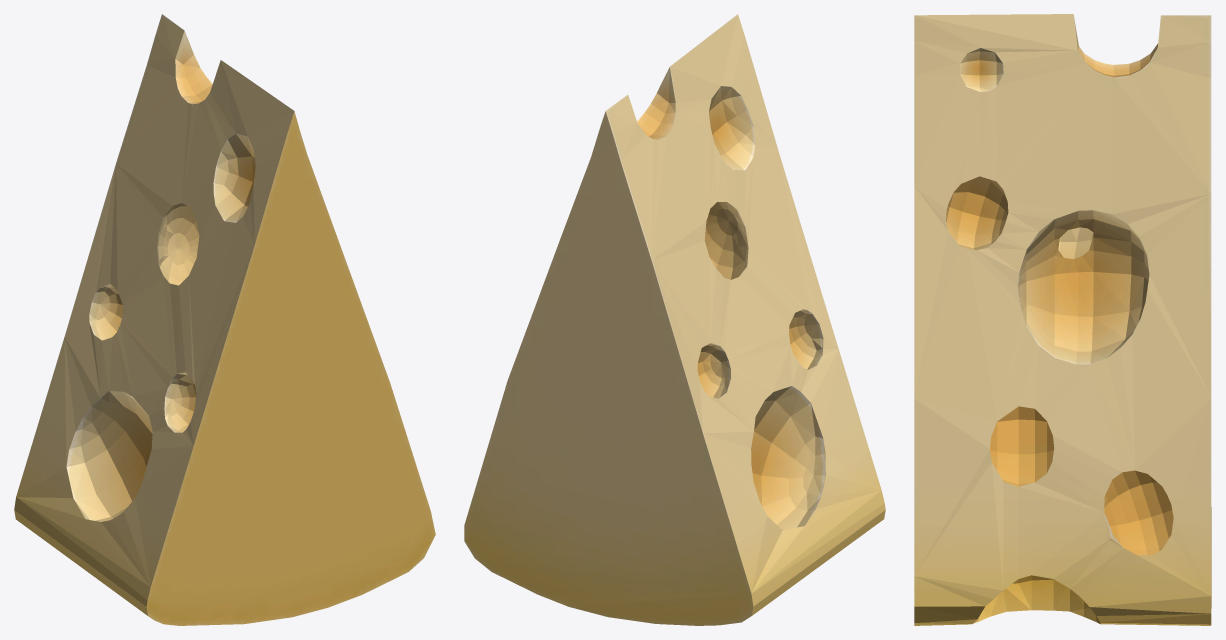
The model's file is chubomb.fbx.
3 views of the same model, side by side, from view 1: azimuth 30°, elevation 25°; view 2: azimuth 150°, elevation 25°; view 3: azimuth 270°, elevation 25° (orthographic). The views are drawn at different scales.
Parts seen in each view (by area): view 1: eff_bts_chr020_chbomb_0; view 2: eff_bts_chr020_chbomb_0; view 3: eff_bts_chr020_chbomb_0.
Boxes of the visible parts, x1,y1,x2,y2 form: eff_bts_chr020_chbomb_0: (14, 14, 435, 625); eff_bts_chr020_chbomb_0: (464, 14, 885, 625); eff_bts_chr020_chbomb_0: (914, 14, 1211, 625).
Bounding box in the file's own units: 15.13 × 25.28 × 12.01.
